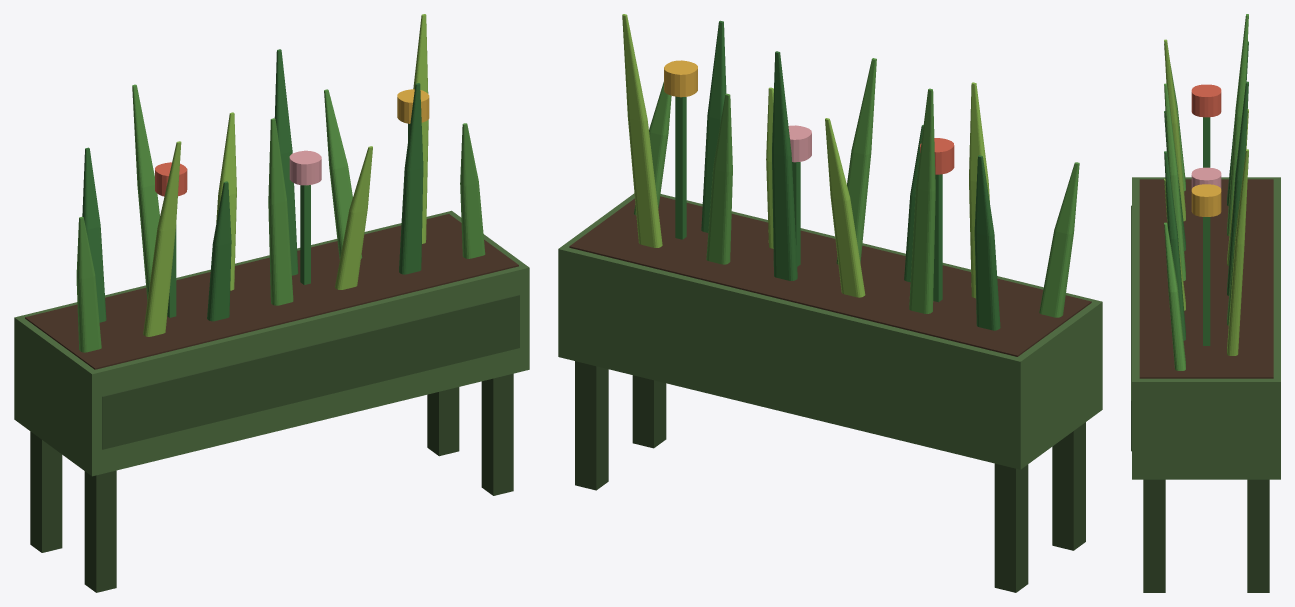
The model's file is planter_box.glb.
3 renders of one model, left to right at view 1: azimuth 30°, elevation 25°; view 2: azimuth 150°, elevation 25°; view 3: azimuth 270°, elevation 25°, orthographic. The views are drawn at different scales.
Visible parts, largest first — view 1: planter_box_Body; view 2: planter_box_Body; view 3: planter_box_Body.
Boxes of the visible parts, x1=… form: planter_box_Body: x1=14, y1=14, x2=529, y2=592; planter_box_Body: x1=558, y1=14, x2=1102, y2=592; planter_box_Body: x1=1131, y1=14, x2=1280, y2=592.
Bounding box in the file's own units: 1.3 × 1.26 × 0.403.
